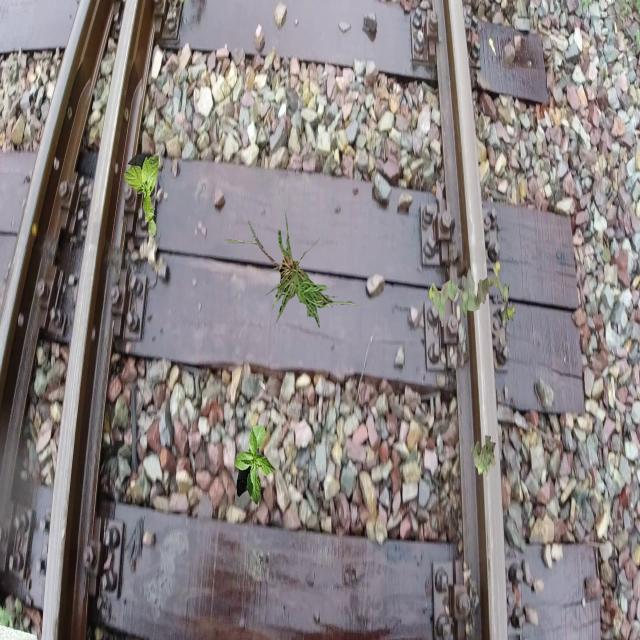Plant: (224, 209, 368, 328), (428, 261, 514, 329), (235, 425, 277, 505), (124, 154, 160, 238), (470, 435, 496, 478)
